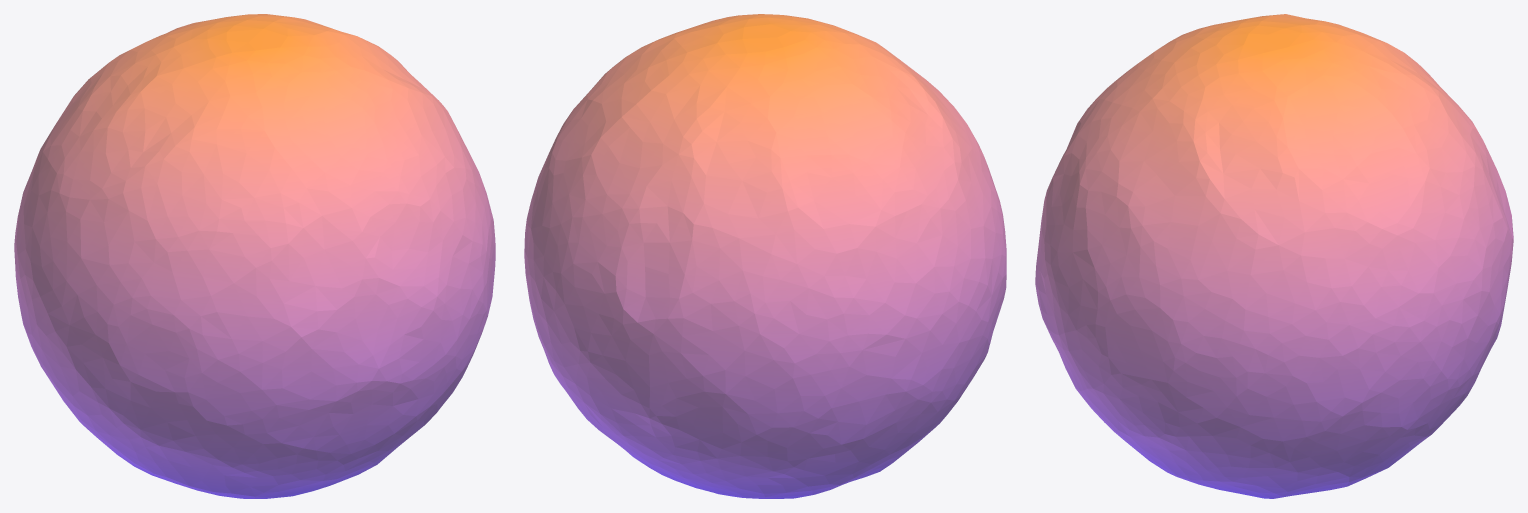
File: 121_cyb_laser_gradient_fish_scales_2888_2026_10_03_770695.glb
3 renders of one model, left to right at view 1: azimuth 30°, elevation 25°; view 2: azimuth 150°, elevation 25°; view 3: azimuth 270°, elevation 25°, orthographic.
Parts seen in each view (by area): view 1: geometry_0; view 2: geometry_0; view 3: geometry_0.
Boxes of the visible parts, left/top/right/bottom form: geometry_0: left=14, top=14, right=495, bottom=498; geometry_0: left=524, top=14, right=1006, bottom=498; geometry_0: left=1035, top=14, right=1513, bottom=498.
Bounding box in the file's own units: 1 × 1 × 1.
